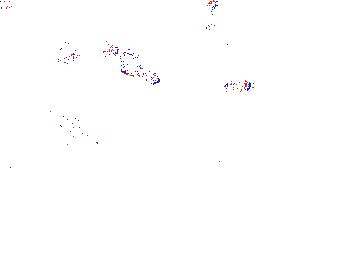glassfish: (1, 85, 71, 142), (68, 98, 104, 132)
red belly glassfish: (189, 77, 255, 97), (223, 39, 246, 55)
redtail glassfish: (103, 42, 162, 86), (55, 41, 84, 66), (203, 1, 221, 34)
